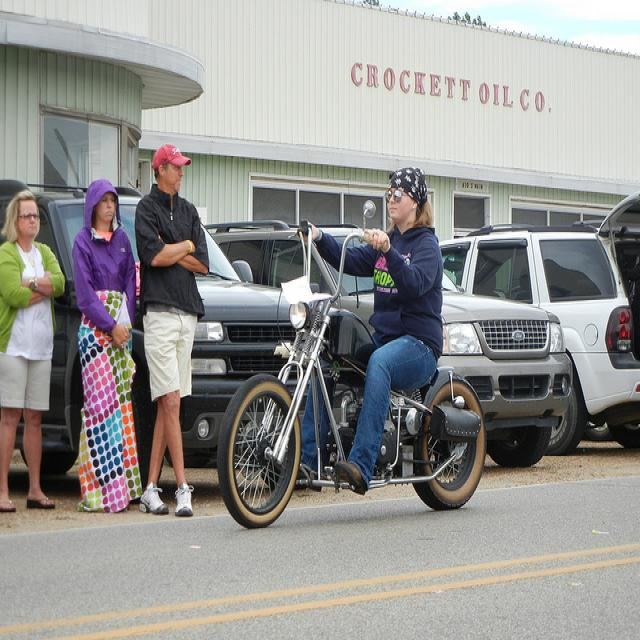motor: (222, 223, 489, 528)
